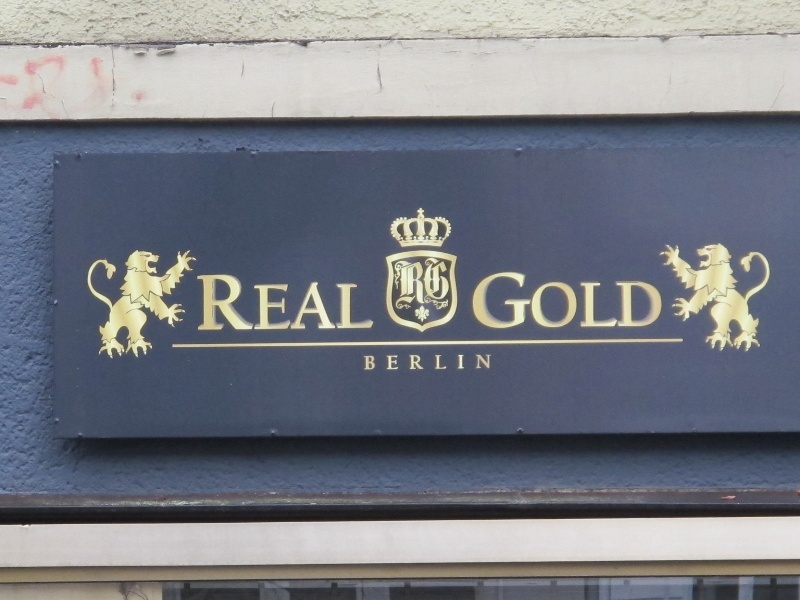text: (209, 273, 224, 335), (225, 273, 240, 335), (241, 273, 256, 335), (257, 273, 272, 335), (273, 273, 288, 335), (289, 273, 304, 335), (305, 273, 320, 335), (321, 273, 336, 335), (337, 273, 352, 335), (353, 273, 368, 335), (481, 270, 496, 332), (497, 270, 512, 332), (513, 270, 528, 332), (529, 270, 544, 332), (545, 270, 560, 332), (561, 270, 576, 332), (577, 270, 592, 332), (593, 270, 608, 332), (609, 270, 624, 332), (625, 270, 640, 332), (641, 270, 656, 332), (195, 273, 208, 335), (401, 259, 416, 308), (417, 259, 432, 308), (433, 259, 448, 308), (657, 270, 665, 332), (369, 273, 376, 335), (474, 270, 480, 332), (369, 353, 384, 374), (385, 353, 400, 374), (401, 353, 416, 374), (417, 353, 432, 374), (433, 353, 448, 374), (449, 353, 464, 374), (465, 353, 480, 374), (481, 353, 494, 374), (449, 259, 454, 308), (397, 259, 400, 308), (361, 353, 368, 374)
